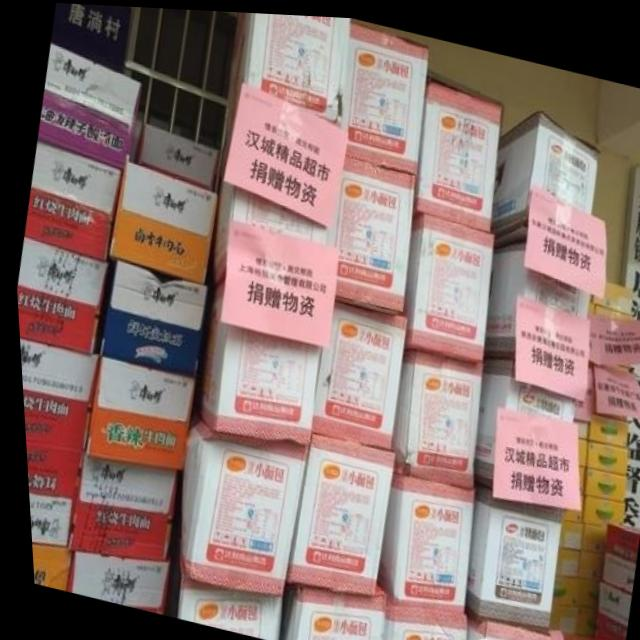box: (177, 415, 303, 595), (195, 271, 317, 442), (277, 429, 391, 596), (223, 10, 351, 144), (487, 102, 601, 244), (457, 476, 558, 629), (306, 297, 405, 447), (467, 350, 573, 486), (399, 208, 492, 359), (105, 162, 217, 284), (411, 77, 501, 227), (371, 471, 469, 608), (342, 18, 429, 172), (36, 42, 143, 167), (330, 154, 414, 311), (386, 346, 480, 482), (479, 237, 588, 354), (81, 354, 191, 468), (97, 258, 203, 374), (61, 449, 173, 558), (211, 180, 326, 286), (22, 139, 120, 261), (13, 237, 106, 352), (171, 539, 275, 640), (16, 337, 94, 448), (271, 576, 379, 640), (59, 548, 164, 612), (20, 438, 78, 547), (134, 122, 217, 188), (375, 593, 458, 640), (456, 607, 546, 640), (593, 518, 635, 587), (588, 575, 625, 635), (25, 544, 64, 591), (578, 461, 622, 496), (581, 433, 623, 469), (575, 490, 620, 523), (584, 408, 624, 443), (590, 276, 630, 306), (540, 598, 573, 629), (571, 544, 599, 575), (545, 570, 573, 601), (574, 518, 600, 550), (549, 541, 572, 575), (554, 514, 579, 545), (568, 601, 588, 632), (572, 575, 593, 602), (569, 414, 585, 435), (573, 434, 582, 460)
